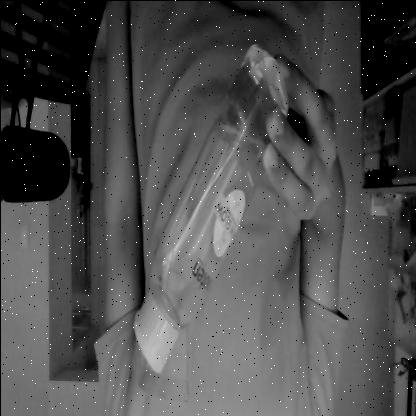Plastic Bottle: (130, 37, 284, 378)
